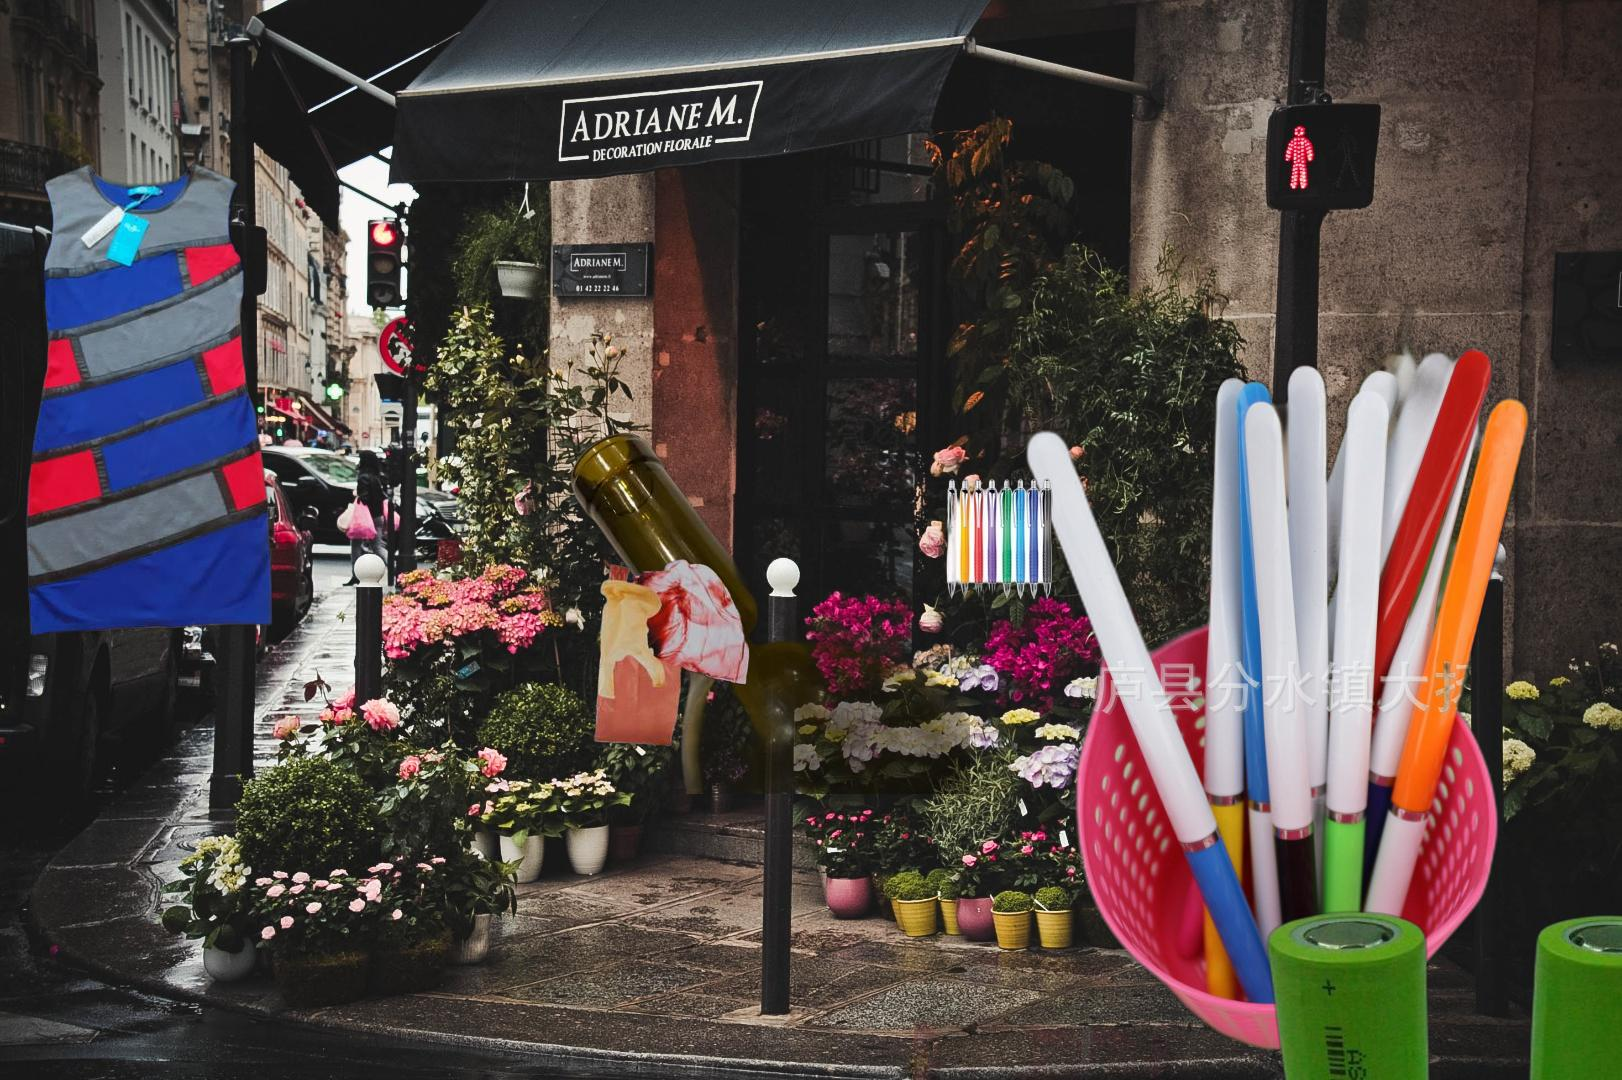battery: (1262, 908, 1622, 1080)
clothes: (23, 158, 276, 641)
glass: (566, 429, 970, 794)
paper: (913, 950, 1376, 1080)
penholder: (972, 304, 1536, 1053), (927, 463, 1054, 601)
plastic-bag: (590, 556, 753, 756)
